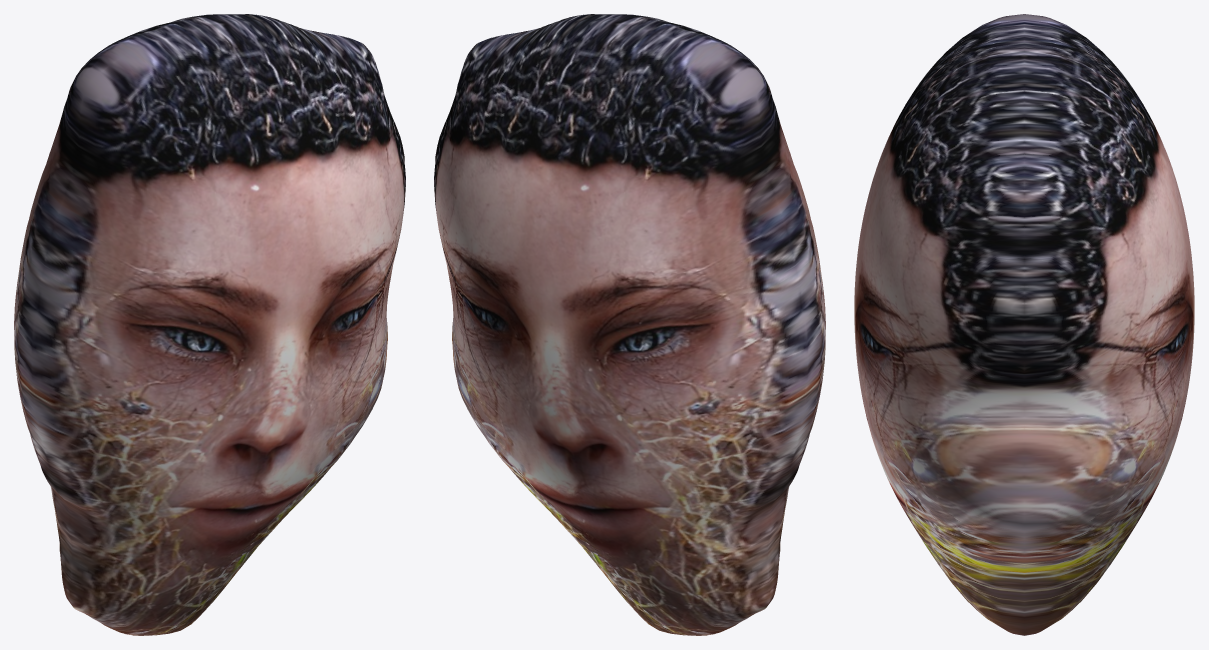
The model's file is data.glb.
3 views of the same model, side by side, from view 1: azimuth 30°, elevation 25°; view 2: azimuth 150°, elevation 25°; view 3: azimuth 270°, elevation 25° (orthographic). The views are drawn at different scales.
Bounding box in the file's own units: 4.1 × 6.48 × 3.3.
1 material, 1 textured.
